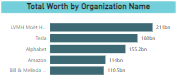

What the dashboard file says about the page in this screenshot:
{"tool":"powerbi","page":{"name":"Organization Name Tooltip","canvas":[420,200],"ordinal":1},"visuals":[{"type":"clusteredBarChart","title":"Total Worth by Organization Name","fields":{"Category":["billionaires_2023.organization_name"],"Y":["_DAX Measures.Total Worth"]},"box":[4.3,7.1,410,187.1],"z":0}]}

Visuals, with their boxes on the page's 420x200 design canvas (x1, y1, x2, y2). These are canvas units, not pixel positions in the 182x83 screenshot, which may show the page scaled, cropped or inside an application window:
"Total Worth by Organization Name" clusteredBarChart: {"left": 4, "top": 7, "right": 414, "bottom": 194}
